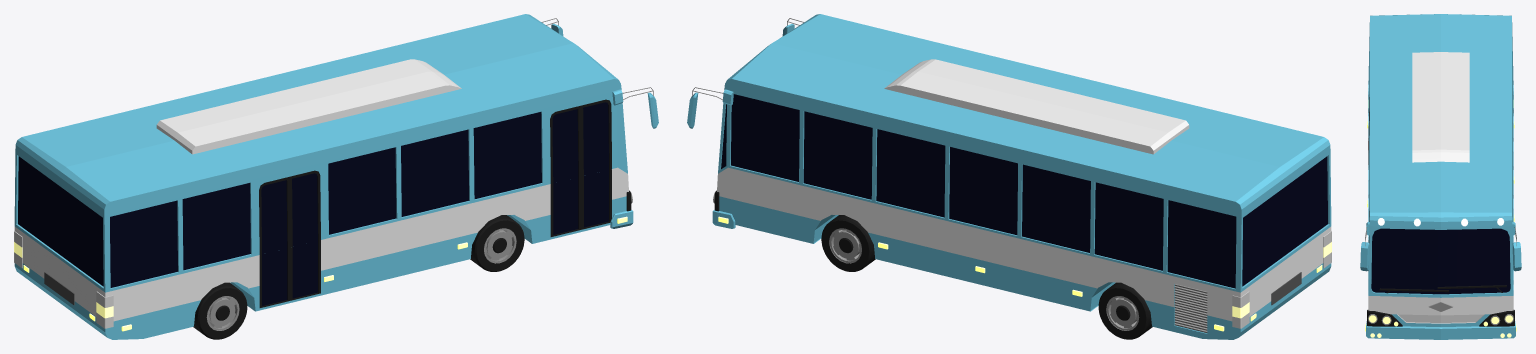
File: city_bus.glb
3 renders of one model, left to right at view 1: azimuth 30°, elevation 25°; view 2: azimuth 150°, elevation 25°; view 3: azimuth 270°, elevation 25°, orthographic. The views are drawn at different scales.
Visible parts, largest first — view 1: cityBus; view 2: cityBus; view 3: cityBus.
Part boxes in pixels (box(x1,y1,x2,y2)): cityBus: box(14, 14, 658, 339); cityBus: box(687, 14, 1331, 339); cityBus: box(1360, 14, 1521, 339).
Size of the model in its own units: 981 by 297 by 310.
